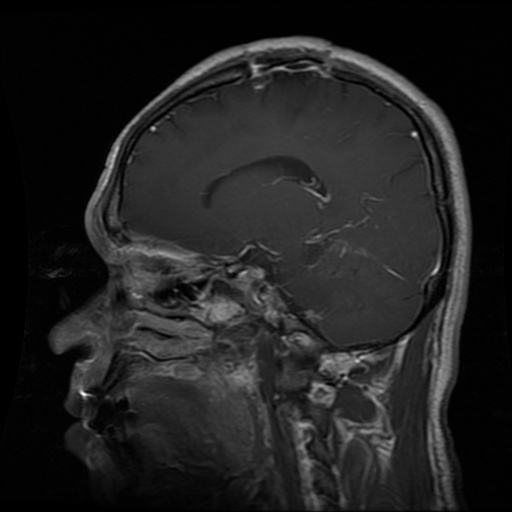glioma: (260, 81, 318, 120)
